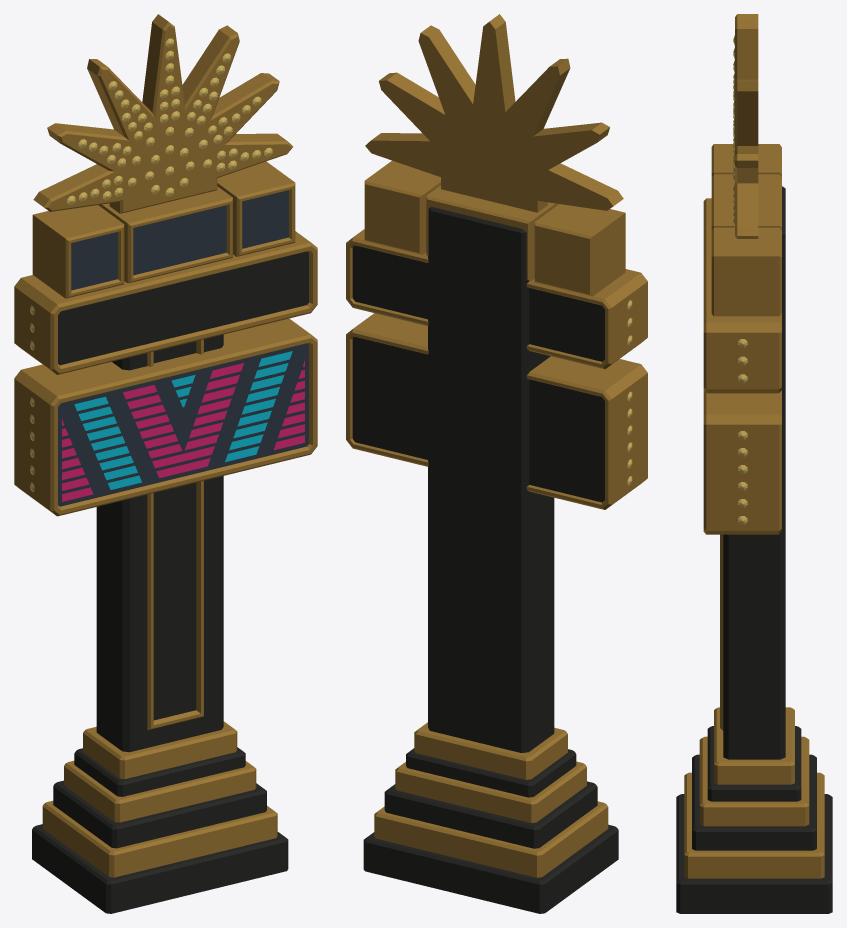
File: resort-marquee-pylon-64ffbf.glb
3 views of the same model, side by side, from view 1: azimuth 30°, elevation 25°; view 2: azimuth 150°, elevation 25°; view 3: azimuth 270°, elevation 25° (orthographic).
Parts seen in each view (by area): view 1: resort-marquee-pylon-body; view 2: resort-marquee-pylon-body; view 3: resort-marquee-pylon-body.
Part boxes in pixels (x1=…): resort-marquee-pylon-body: x1=14, y1=14, x2=317, y2=913; resort-marquee-pylon-body: x1=346, y1=14, x2=647, y2=913; resort-marquee-pylon-body: x1=676, y1=14, x2=832, y2=913.
Bounding box in the file's own units: 4 × 12 × 2.
